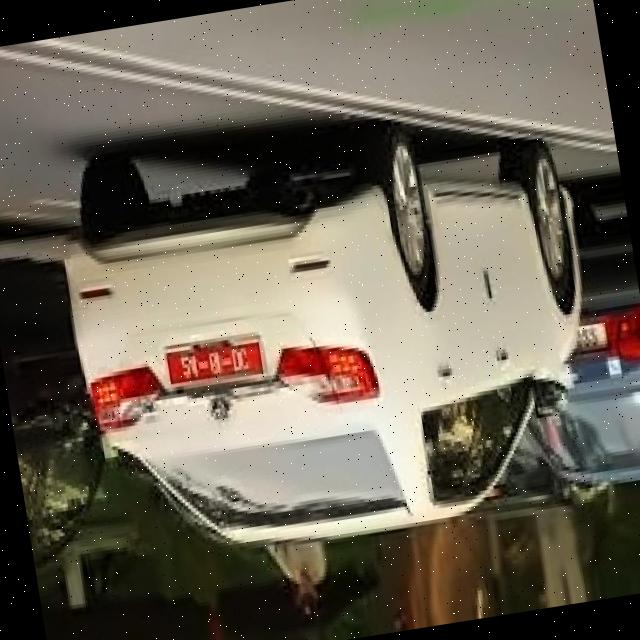License_Plate: (165, 336, 268, 390)
car: (46, 72, 635, 580)
